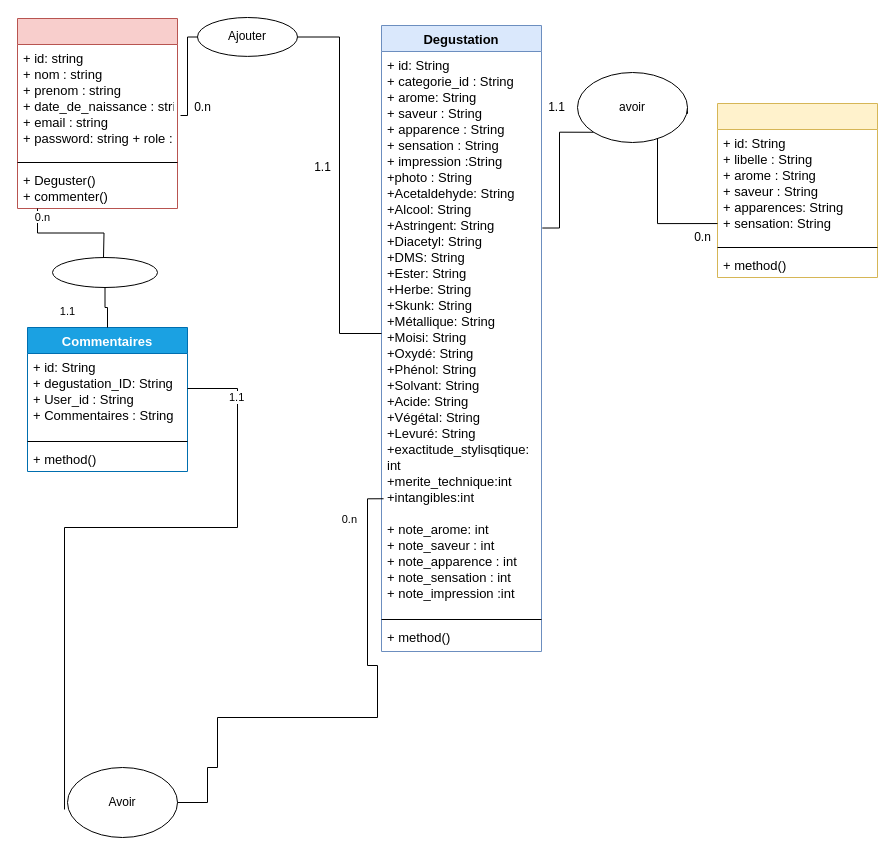
Some shapes in this 895 by 855 pixel diagram are drawn without their labels. Each missing label, with the box of its shape:
Categories: (716, 102, 878, 278)
Faire: (52, 256, 158, 288)
Users: (16, 18, 178, 208)
